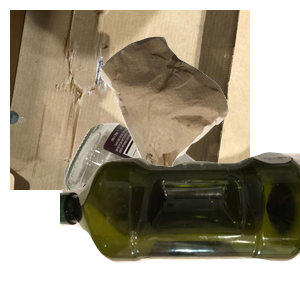cardboard: (10, 10, 250, 190)
glass: (62, 120, 300, 300)
plastic: (60, 149, 300, 300)
trash: (98, 34, 300, 211)
